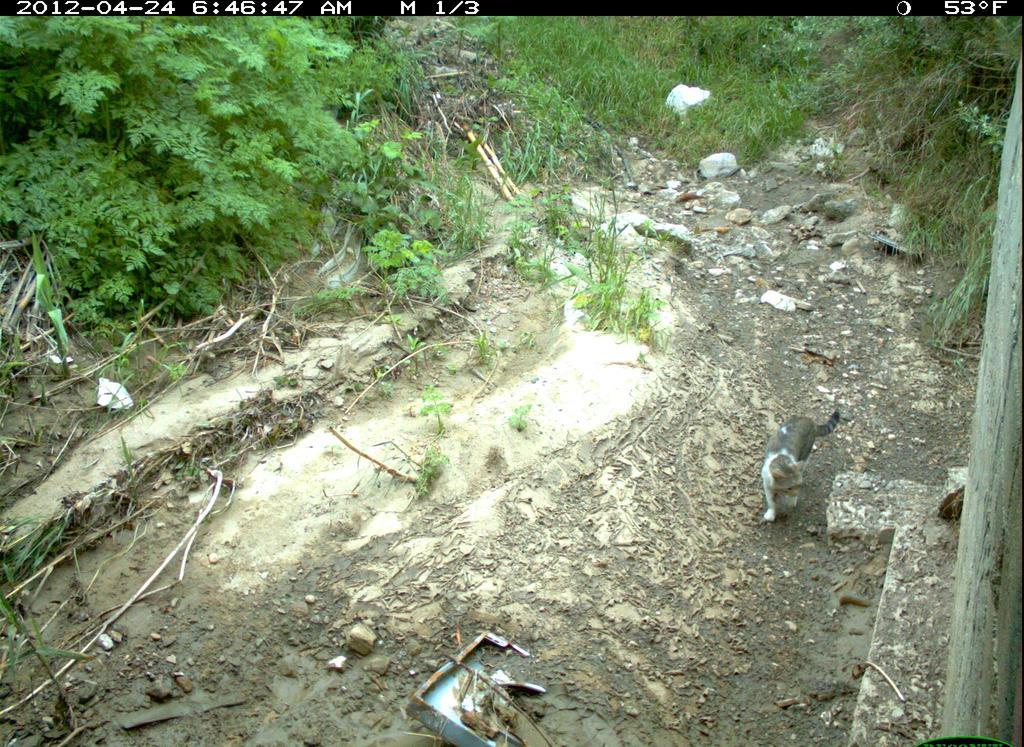cat: (756, 408, 849, 536)
